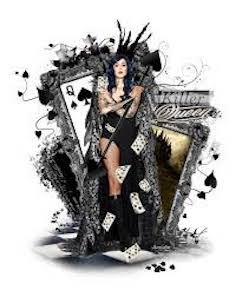QueenOfSpades: (57, 70, 103, 162)
